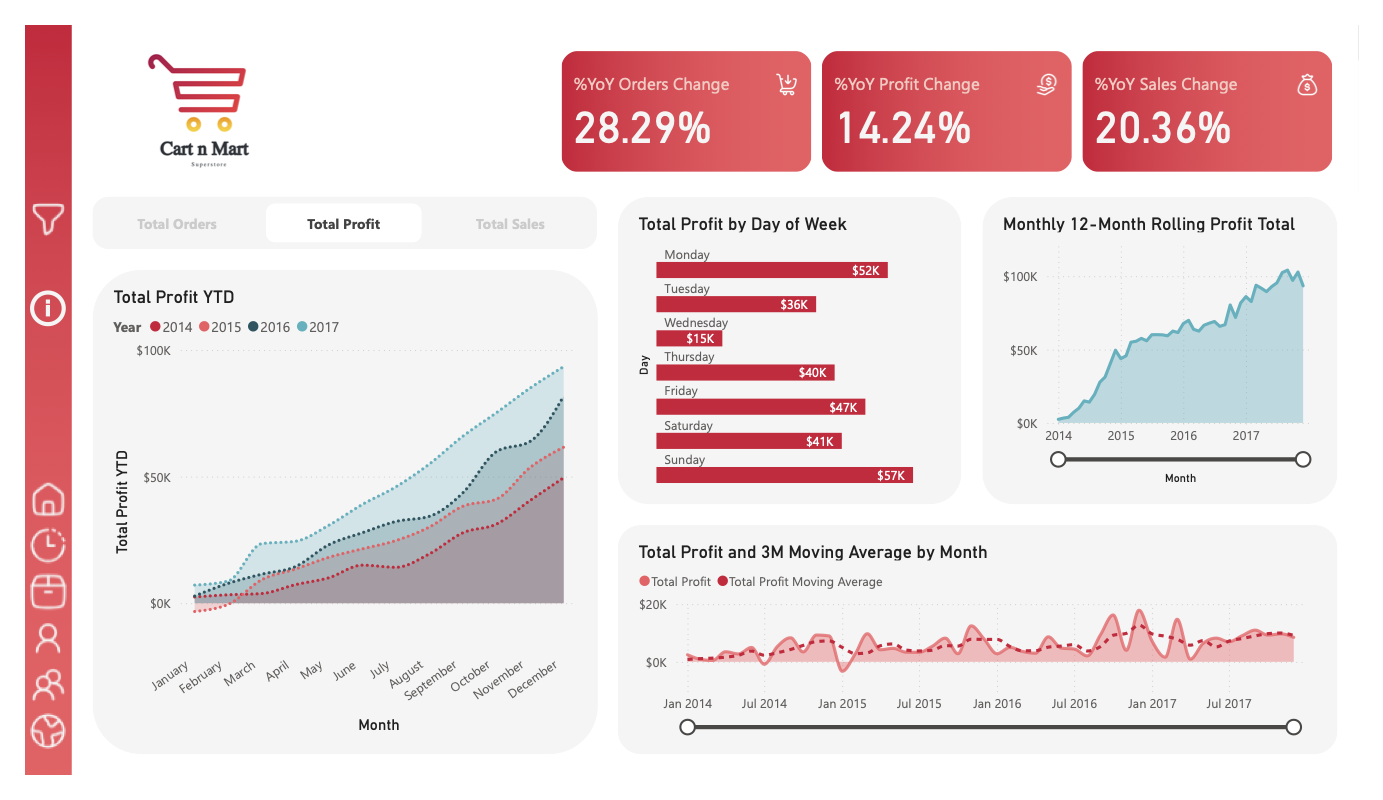

What the dashboard file says about the page in this screenshot:
{"tool":"powerbi","page":{"name":"Time Trends","canvas":[1280,720],"ordinal":1},"visuals":[{"type":"cardVisual","title":"NavBar","fields":{"Data":["Measures Table.Dummy Title"]},"box":[0,0,45,720],"z":0,"group":"g7"},{"type":"image","box":[65.6,20,214,125],"z":0},{"type":"shape","title":"BG","box":[569,165,330,295],"z":0,"group":"g2"},{"type":"shape","title":"BG","box":[919,165,341,295],"z":0,"group":"g4"},{"type":"slicer","fields":{"Values":["KPI Measures Time-Based Analysis.Group Name"]},"box":[292,176,12,12],"z":0,"group":"g6"},{"type":"shape","title":"BG","box":[65,235,485,465],"z":0,"group":"g3"},{"type":"actionButton","title":"Home Button","box":[0,432.6,44.6,44.6],"z":0,"group":"g1"},{"type":"shape","title":"BG","box":[569,480,691,220],"z":0,"group":"g5"},{"type":"bookmarkNavigator","title":"Slicer selector","box":[65,165,484,50],"z":1000,"group":"g6"},{"type":"clusteredBarChart","fields":{"Y":["Measures Table.Day Name Placeholder","Measures Table.Total Profit"],"Category":["DimCalendar.Day name"]},"box":[584,180,300,265],"z":1000,"group":"g2"},{"type":"areaChart","fields":{"Y":["Measures Table.Profit Rolling 12M"],"Category":["DimCalendar.Start of month"]},"box":[934,180,311,265],"z":1000,"group":"g4"},{"type":"areaChart","fields":{"Y":["Measures Table.YTD Profit"],"Series":["DimCalendar.Year"],"Category":["DimCalendar.Month name"]},"box":[80,250,455,435],"z":1000,"group":"g3"},{"type":"group","id":"g1","title":"NavBar Buttons","box":[0,432.6,44.6,267.4],"z":1000,"group":"g7"},{"type":"actionButton","title":"Time Button","box":[0,477.2,44.6,44.6],"z":1000,"group":"g1"},{"type":"areaChart","fields":{"Y":["Measures Table.Total Profit","Measures Table.Profit 3M Moving Average"],"Category":["DimCalendar.Start of month"]},"box":[584,495,661,190],"z":1000,"group":"g5"},{"type":"actionButton","title":"Filter Button","box":[0,164.1,44.6,44.6],"z":2000,"group":"g7"},{"type":"group","id":"g2","title":"Total Sales by Day","box":[569,165,330,295],"z":2000},{"type":"actionButton","title":"Products Button","box":[0,521.7,44.6,44.6],"z":2000,"group":"g1"},{"type":"cardVisual","title":"KPIs","fields":{"Data":["Measures Table.%YoY Orders Change","Measures Table.%YoY Profit Change","Measures Table.%YoY Sales Change"]},"box":[510,20,750,125.6],"z":3000},{"type":"actionButton","title":"Customers Button","box":[0,566.3,44.6,44.6],"z":3000,"group":"g1"},{"type":"group","id":"g3","title":"KPI YTD by Month with BG","box":[65,235,485,465],"z":4000},{"type":"actionButton","title":"Customers RFM Button","box":[0,610.9,44.6,44.6],"z":4000,"group":"g1"},{"type":"group","id":"g4","title":"Monthly 12-Month RT with BG","box":[919,165,341,295],"z":5000},{"type":"actionButton","title":"Territory Button","box":[0,655.4,44.6,44.6],"z":5000,"group":"g1"},{"type":"group","id":"g5","title":"Total and 3M Moving Average by Month with BG","box":[569,480,691,220],"z":6000},{"type":"group","id":"g6","title":"Slicer","box":[65,165,484,50],"z":7000},{"type":"group","id":"g7","title":"Navbar home","box":[0,0,45,720],"z":8000},{"type":"actionButton","title":"Slicers warning","box":[0,250,44,44],"z":8500}]}

Visuals, with their boxes in screenshot pixels (x1, y1, x2, y2), scaled from the page's 1280x720 canvas onto the 1383x800 screenshot:
"NavBar" cardVisual: select_region(0, 0, 49, 799)
image: select_region(71, 22, 302, 161)
"BG" shape: select_region(615, 183, 971, 511)
"BG" shape: select_region(993, 183, 1361, 511)
slicer - KPI Measures Time-Based Analysis.Group Name: select_region(315, 196, 328, 209)
"BG" shape: select_region(70, 261, 594, 778)
"Home Button" actionButton: select_region(0, 481, 48, 530)
"BG" shape: select_region(615, 533, 1361, 778)
"Slicer selector" bookmarkNavigator: select_region(70, 183, 593, 239)
clusteredBarChart - Measures Table.Day Name Placeholder x Measures Table.Total Profit: select_region(631, 200, 955, 494)
areaChart - Measures Table.Profit Rolling 12M x DimCalendar.Start of month: select_region(1009, 200, 1345, 494)
areaChart - Measures Table.YTD Profit x DimCalendar.Year: select_region(86, 278, 578, 761)
"NavBar Buttons" group: select_region(0, 481, 48, 778)
"Time Button" actionButton: select_region(0, 530, 48, 580)
areaChart - Measures Table.Total Profit x Measures Table.Profit 3M Moving Average: select_region(631, 550, 1345, 761)
"Filter Button" actionButton: select_region(0, 182, 48, 232)
"Total Sales by Day" group: select_region(615, 183, 971, 511)
"Products Button" actionButton: select_region(0, 580, 48, 629)
"KPIs" cardVisual: select_region(551, 22, 1361, 162)
"Customers Button" actionButton: select_region(0, 629, 48, 679)
"KPI YTD by Month with BG" group: select_region(70, 261, 594, 778)
"Customers RFM Button" actionButton: select_region(0, 679, 48, 728)
"Monthly 12-Month RT with BG" group: select_region(993, 183, 1361, 511)
"Territory Button" actionButton: select_region(0, 728, 48, 778)
"Total and 3M Moving Average by Month with BG" group: select_region(615, 533, 1361, 778)
"Slicer" group: select_region(70, 183, 593, 239)
"Navbar home" group: select_region(0, 0, 49, 799)
"Slicers warning" actionButton: select_region(0, 278, 48, 327)
